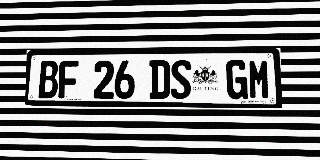2: (94, 60, 114, 99)
6: (114, 60, 135, 99)
B: (38, 61, 59, 98)
D: (149, 60, 170, 99)
F: (58, 60, 79, 99)
G: (226, 59, 248, 99)
M: (248, 59, 270, 99)
S: (171, 60, 191, 99)
